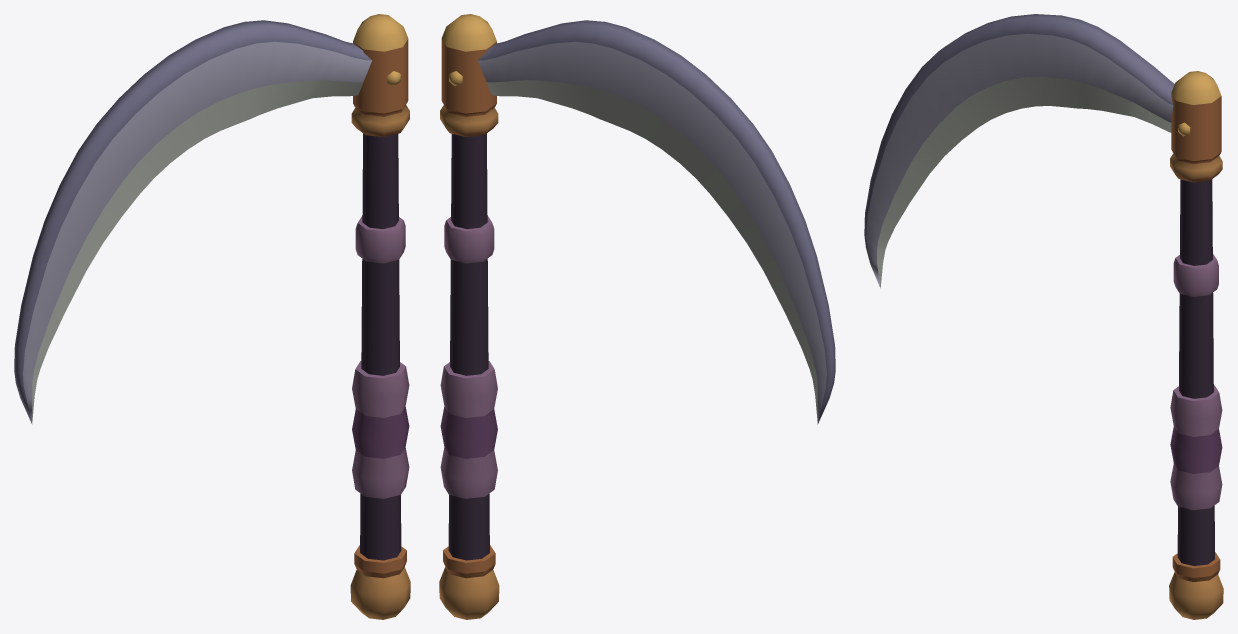
Rendered from Cosmetic_Scythe.glb.
3 renders of one model, left to right at view 1: azimuth 30°, elevation 25°; view 2: azimuth 150°, elevation 25°; view 3: azimuth 330°, elevation 25°, orthographic. The views are drawn at different scales.
Parts seen in each view (by area): view 1: Cosmetic_Scythe; view 2: Cosmetic_Scythe; view 3: Cosmetic_Scythe.
Part boxes in pixels (x1,y1,x2,y2): Cosmetic_Scythe: (14,14,410,619); Cosmetic_Scythe: (439,14,835,619); Cosmetic_Scythe: (864,14,1223,619).
Size of the model in its own units: 0.8516 by 1.3 by 0.1242.
